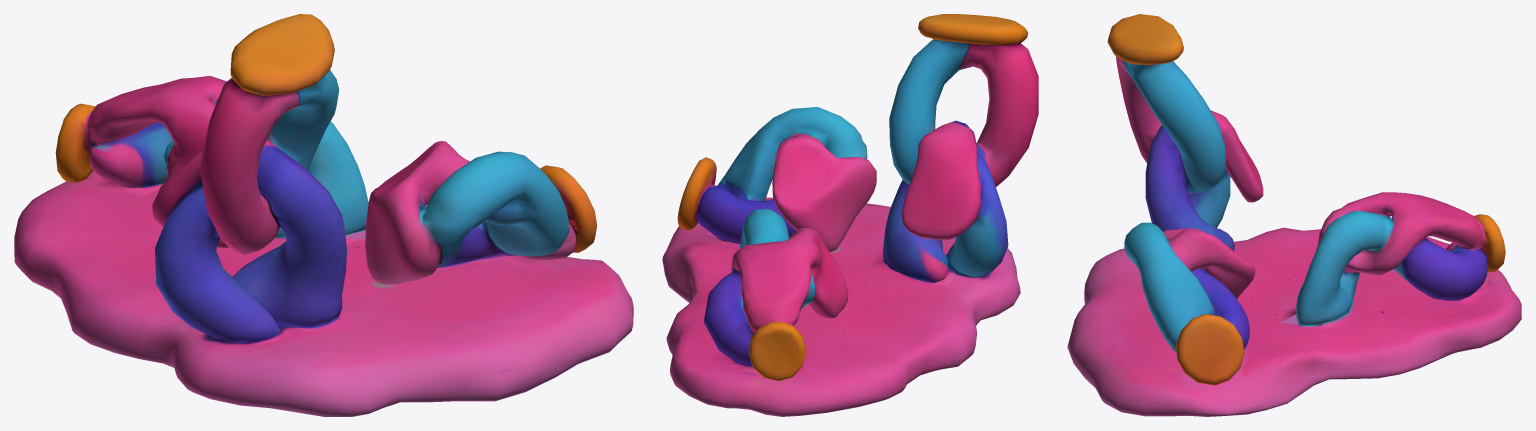
The picture shows the model from 3 angles, left to right: view 1: azimuth 30°, elevation 25°; view 2: azimuth 150°, elevation 25°; view 3: azimuth 270°, elevation 25°; orthographic projection. The views are drawn at different scales.
Visible parts, largest first — view 1: tripo_node_50a1f5a0-9dab-496f-9fd7-ff705435f62b; view 2: tripo_node_50a1f5a0-9dab-496f-9fd7-ff705435f62b; view 3: tripo_node_50a1f5a0-9dab-496f-9fd7-ff705435f62b.
Part boxes in pixels (x1,y1,x2,y2): tripo_node_50a1f5a0-9dab-496f-9fd7-ff705435f62b: [14, 14, 633, 416]; tripo_node_50a1f5a0-9dab-496f-9fd7-ff705435f62b: [662, 14, 1038, 416]; tripo_node_50a1f5a0-9dab-496f-9fd7-ff705435f62b: [1067, 14, 1521, 416].
Bounding box in the file's own units: 0.8513 × 0.6595 × 0.998.
1 material, 1 textured.
